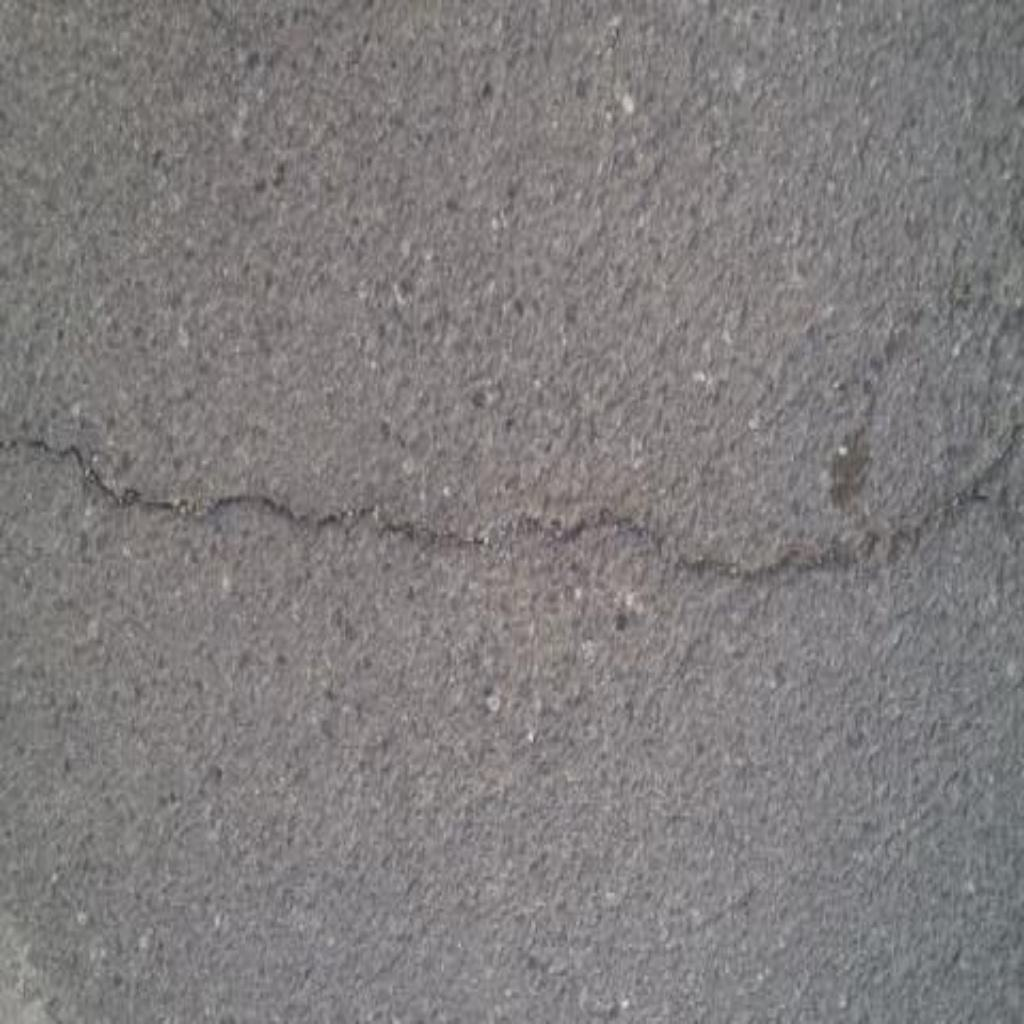Crack: (1, 420, 1024, 583)
